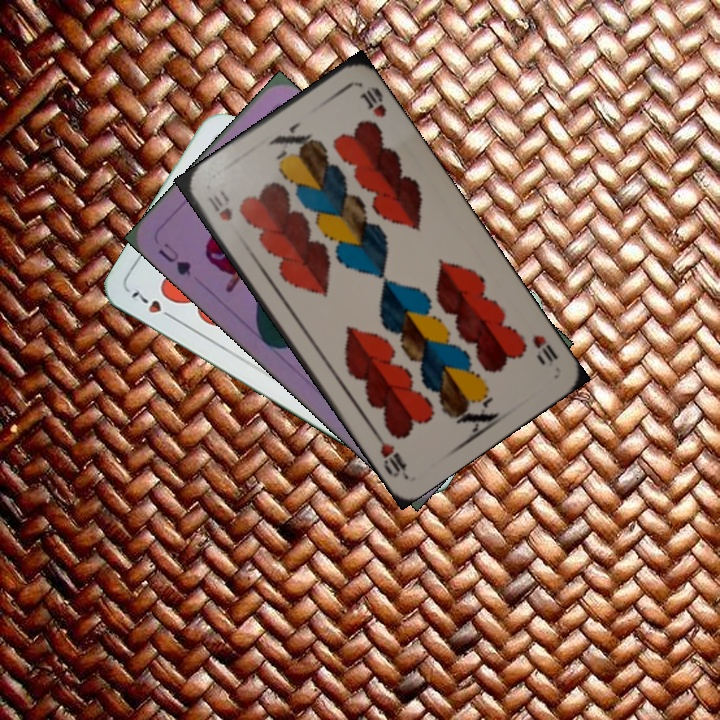GU: (153, 238, 194, 279)
H10: (528, 330, 561, 370), (203, 190, 236, 224)
H7: (126, 285, 179, 324)
